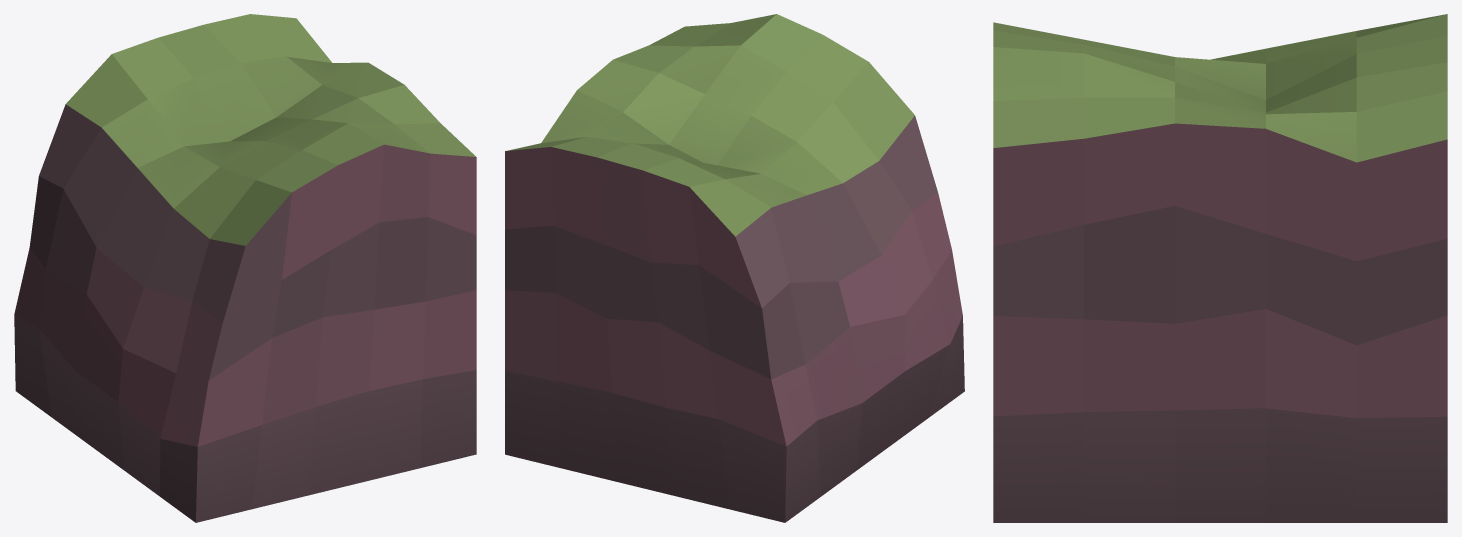
Rendered from roca_te_3.glb.
The picture shows the model from 3 angles, left to right: view 1: azimuth 30°, elevation 25°; view 2: azimuth 150°, elevation 25°; view 3: azimuth 270°, elevation 25°; orthographic projection. The views are drawn at different scales.
Parts seen in each view (by area): view 1: propforge-cuartos-roca_te; view 2: propforge-cuartos-roca_te; view 3: propforge-cuartos-roca_te.
Part boxes in pixels (x1,y1,x2,y2): propforge-cuartos-roca_te: (14,14,476,522); propforge-cuartos-roca_te: (505,14,964,522); propforge-cuartos-roca_te: (993,14,1447,522).
Size of the model in its own units: 0.9334 by 1.02 by 1.
